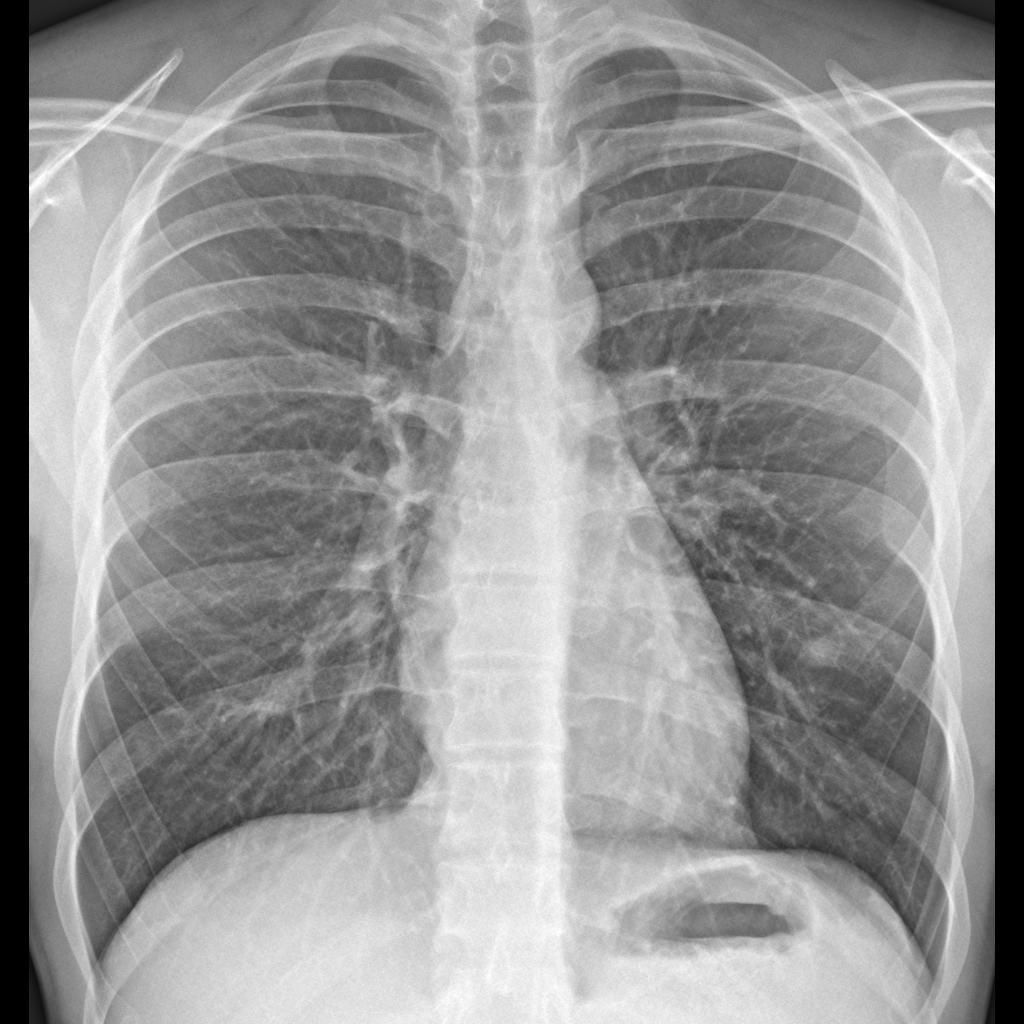Nodule: (793, 621, 849, 674)
